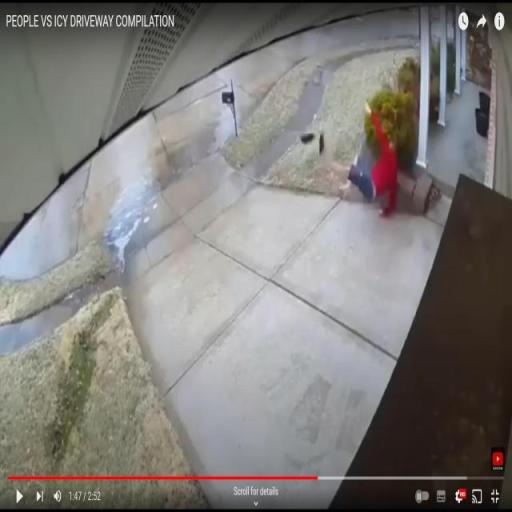Fall: (327, 100, 403, 222)
